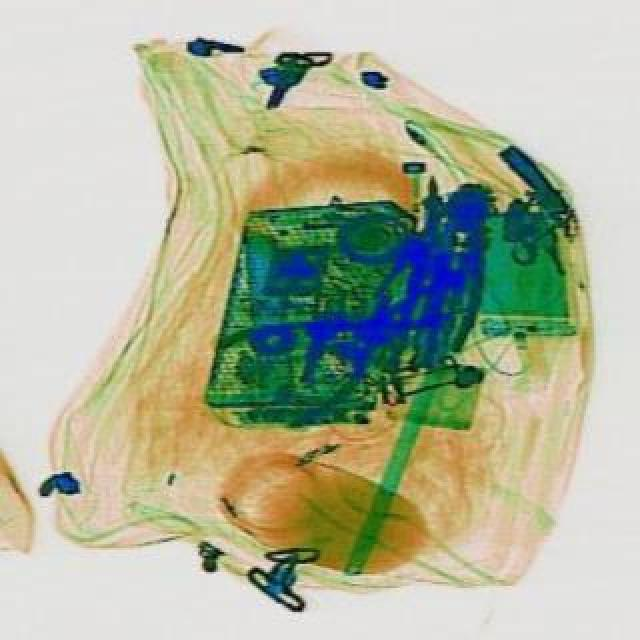wrench: (210, 264, 434, 440)
